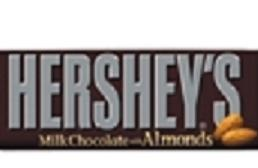grozi_10: (0, 50, 257, 150)
